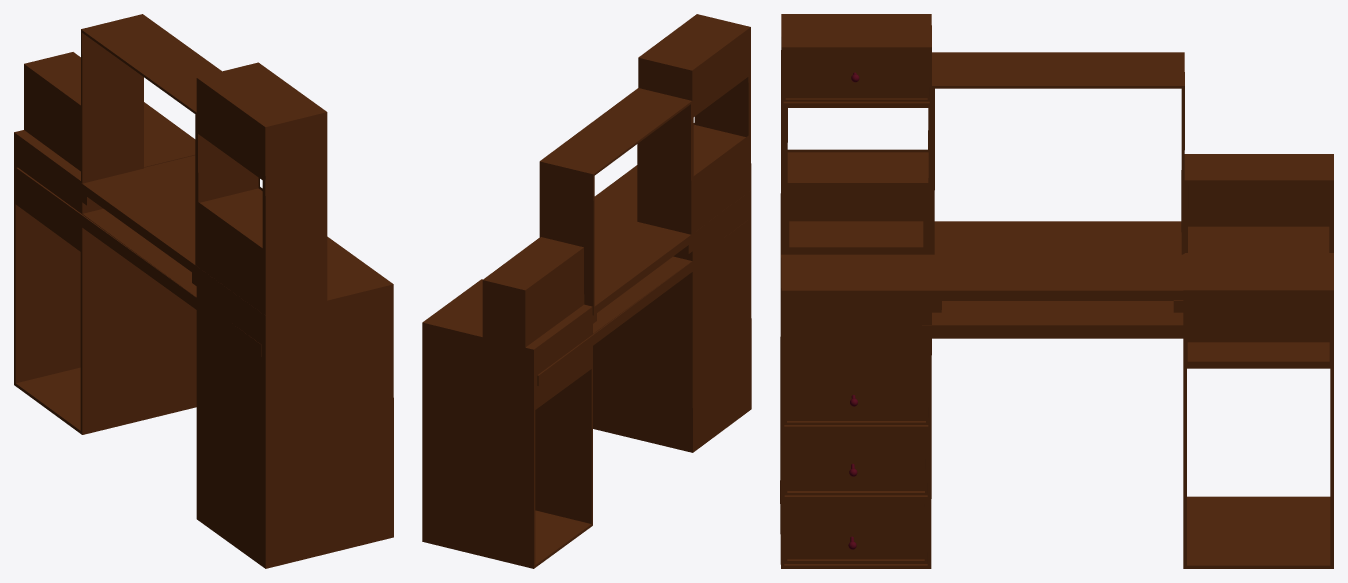
Rendered from escritorio4.obj.
3 views of the same model, side by side, from view 1: azimuth 30°, elevation 25°; view 2: azimuth 150°, elevation 25°; view 3: azimuth 270°, elevation 25° (orthographic). The views are drawn at different scales.
Parts seen in each view (by area): view 1: Mesh_escritorio; view 2: Mesh_escritorio; view 3: Mesh_escritorio.
Part boxes in pixels (<box>): Mesh_escritorio: <box>14,14,393,568</box>; Mesh_escritorio: <box>422,14,751,568</box>; Mesh_escritorio: <box>780,14,1333,568</box>.
Bounding box in the file's own units: 0.5621 × 1.67 × 1.72.
